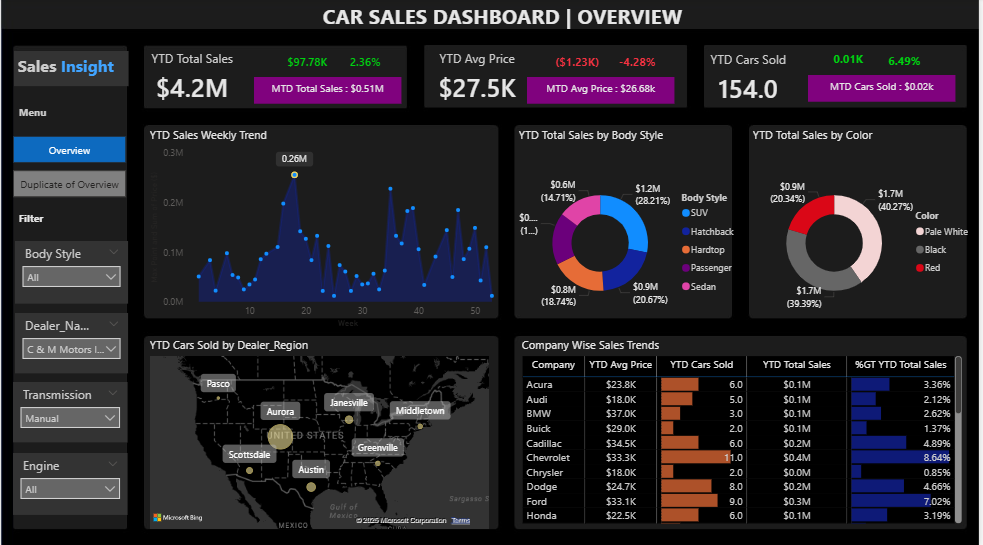

This screenshot's page, from the dashboard's own definition file:
{"tool":"powerbi","page":{"name":"Overview","canvas":[1280,720],"ordinal":0},"visuals":[{"type":"card","title":"YTD Total Sales","fields":{"Values":["car_data.YTD Total Sales"]},"box":[167,67.7,165.6,76.3],"z":0},{"type":"card","fields":{"Values":["car_data.Sales Difference"]},"box":[352.8,67.7,95,36],"z":1000},{"type":"card","fields":{"Values":["car_data.YoY Sales Growth"]},"box":[429.1,67.7,95,36],"z":2000},{"type":"card","fields":{"Values":["car_data.MTD KPI"]},"box":[331.2,103.7,193,35],"z":3000},{"type":"card","title":"YTD Avg Price","fields":{"Values":["car_data.YTD Avg Price"]},"box":[540,67.7,165.6,76.3],"z":4000},{"type":"card","fields":{"Values":["car_data.Avg Price Diff"]},"box":[707,67.7,95,36],"z":5000},{"type":"card","fields":{"Values":["car_data.YoY Avg Price Growth"]},"box":[784.8,67.7,95,36],"z":6000},{"type":"card","fields":{"Values":["car_data.MTD Avg Price KPI"]},"box":[688.3,103.7,193,34.6],"z":7000},{"type":"card","title":"YTD Cars Sold","fields":{"Values":["car_data.YTD Cars Sold"]},"box":[895.7,69.1,165.6,76.3],"z":8000},{"type":"card","fields":{"Values":["car_data.Cars Sold Diff"]},"box":[1061.3,64.8,95,36],"z":9000},{"type":"card","fields":{"Values":["car_data.YoY Car Sold Growth"]},"box":[1134.7,69.1,95,24.5],"z":10000},{"type":"card","fields":{"Values":["car_data.MTD Cars Sold KPI"]},"box":[1057,100.8,193,34.6],"z":11000},{"type":"areaChart","title":"YTD Sales Weekly Trend","fields":{"Category":["Calendar Table.Week"],"Y":["Calendar Table.Max Point","Sum(car_data.Price ($))"]},"box":[190.1,168.5,475.2,267.8],"z":12000},{"type":"donutChart","fields":{"Category":["car_data.Body Style"],"Y":["car_data.YTD Total Sales"]},"box":[672.5,168.5,301,283.7],"z":13000},{"type":"donutChart","fields":{"Y":["car_data.YTD Total Sales"],"Category":["car_data.Color"]},"box":[979.2,168.5,301,283.7],"z":14000},{"type":"map","fields":{"Category":["car_data.Dealer_Region"],"Size":["car_data.YTD Cars Sold"]},"box":[190.1,443.5,453.6,256.3],"z":15000},{"type":"tableEx","title":"Company Wise Sales Trends","fields":{"Values":["car_data.Company","car_data.YTD Avg Price","car_data.YTD Cars Sold","car_data.YTD Total Sales","Divide(car_data.YTD Total Sales, ScopedEval(car_data.YTD Total Sales, []))"]},"box":[676.8,443.5,586.1,249.1],"z":16000},{"type":"textbox","box":[416.2,0,512.6,46.1],"z":17000},{"type":"slicer","fields":{"Values":["car_data.Body Style"]},"box":[18.7,318.2,148.3,82.1],"z":18000},{"type":"slicer","fields":{"Values":["car_data.Dealer_Name"]},"box":[18.7,411.8,148.3,79.2],"z":19000},{"type":"slicer","fields":{"Values":["car_data.Engine"]},"box":[15.8,596.2,149.8,80.6],"z":20000},{"type":"slicer","fields":{"Values":["car_data.Transmission"]},"box":[15.8,502.6,149.8,79.2],"z":21000},{"type":"textbox","box":[17.3,69.1,149.8,46.1],"z":21002},{"type":"textbox","box":[18.7,135.4,59,28.8],"z":21003},{"type":"textbox","box":[18.7,273.6,59,28.8],"z":21004},{"type":"pageNavigator","box":[15.8,180,148.3,80.6],"z":21005}]}

Visuals, with their boxes on the page's 1280x720 design canvas (x1, y1, x2, y2). These are canvas units, not pixel positions in the 983x545 screenshot, which may show the page scaled, cropped or inside an application window:
"YTD Total Sales" card: [x1=167, y1=68, x2=333, y2=144]
card - car_data.Sales Difference: [x1=353, y1=68, x2=448, y2=104]
card - car_data.YoY Sales Growth: [x1=429, y1=68, x2=524, y2=104]
card - car_data.MTD KPI: [x1=331, y1=104, x2=524, y2=139]
"YTD Avg Price" card: [x1=540, y1=68, x2=706, y2=144]
card - car_data.Avg Price Diff: [x1=707, y1=68, x2=802, y2=104]
card - car_data.YoY Avg Price Growth: [x1=785, y1=68, x2=880, y2=104]
card - car_data.MTD Avg Price KPI: [x1=688, y1=104, x2=881, y2=138]
"YTD Cars Sold" card: [x1=896, y1=69, x2=1061, y2=145]
card - car_data.Cars Sold Diff: [x1=1061, y1=65, x2=1156, y2=101]
card - car_data.YoY Car Sold Growth: [x1=1135, y1=69, x2=1230, y2=94]
card - car_data.MTD Cars Sold KPI: [x1=1057, y1=101, x2=1250, y2=135]
"YTD Sales Weekly Trend" areaChart: [x1=190, y1=168, x2=665, y2=436]
donutChart - car_data.Body Style x car_data.YTD Total Sales: [x1=672, y1=168, x2=974, y2=452]
donutChart - car_data.YTD Total Sales x car_data.Color: [x1=979, y1=168, x2=1280, y2=452]
map - car_data.Dealer_Region x car_data.YTD Cars Sold: [x1=190, y1=444, x2=644, y2=700]
"Company Wise Sales Trends" tableEx: [x1=677, y1=444, x2=1263, y2=693]
textbox: [x1=416, y1=0, x2=929, y2=46]
slicer - car_data.Body Style: [x1=19, y1=318, x2=167, y2=400]
slicer - car_data.Dealer_Name: [x1=19, y1=412, x2=167, y2=491]
slicer - car_data.Engine: [x1=16, y1=596, x2=166, y2=677]
slicer - car_data.Transmission: [x1=16, y1=503, x2=166, y2=582]
textbox: [x1=17, y1=69, x2=167, y2=115]
textbox: [x1=19, y1=135, x2=78, y2=164]
textbox: [x1=19, y1=274, x2=78, y2=302]
pageNavigator: [x1=16, y1=180, x2=164, y2=261]
